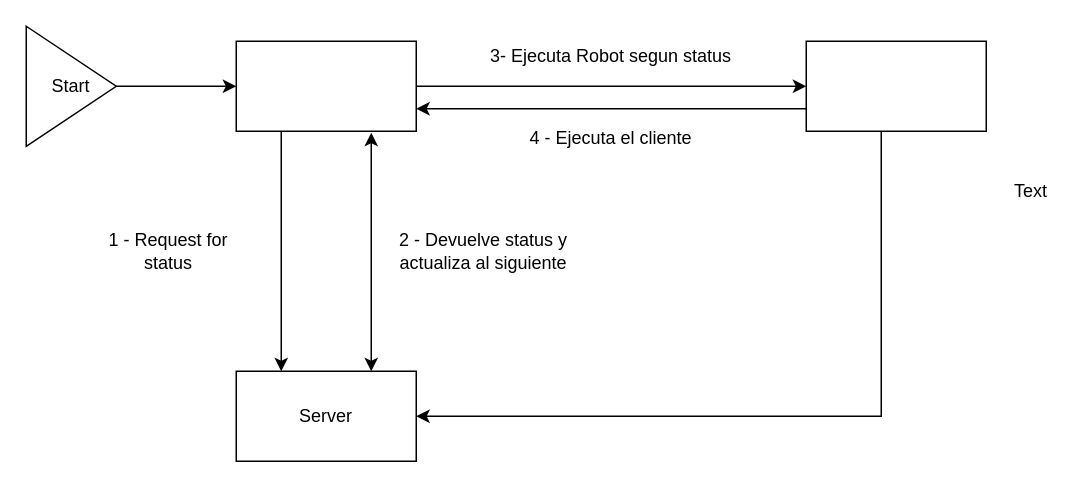
The diagram is 1088 pixels wide and 488 high, and some of its shapes have lost their labels. Each missing label, with the centre of its shape:
Assistant: point (325, 85)
Robot: point (895, 85)
